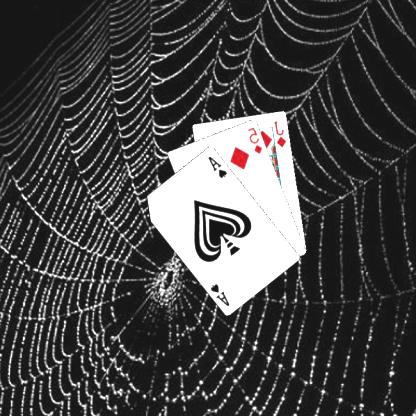5D: (247, 124, 266, 155)
AS: (209, 280, 233, 308), (208, 153, 230, 179)
JD: (274, 119, 290, 148)
